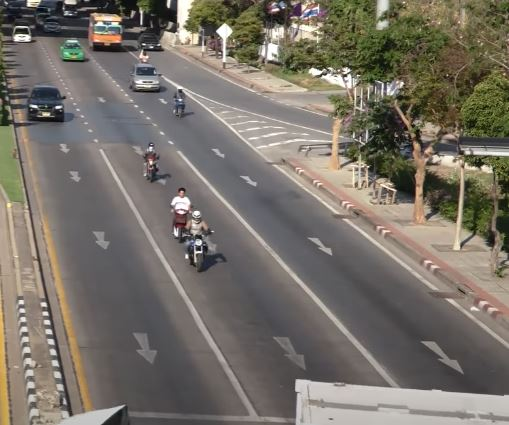Bus: (87, 12, 123, 50)
Car: (26, 83, 67, 123), (130, 63, 161, 94), (60, 38, 84, 61), (135, 33, 163, 51), (10, 24, 33, 44), (41, 15, 62, 33)
Motorcycle: (182, 209, 213, 271), (171, 187, 190, 243), (144, 142, 162, 182), (172, 84, 188, 118), (138, 49, 150, 67)
